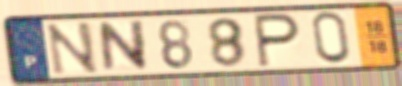0: (309, 10, 354, 68)
8: (206, 16, 250, 70), (156, 18, 195, 70)
N: (44, 20, 102, 77), (96, 18, 151, 75)
P: (251, 11, 303, 70)
